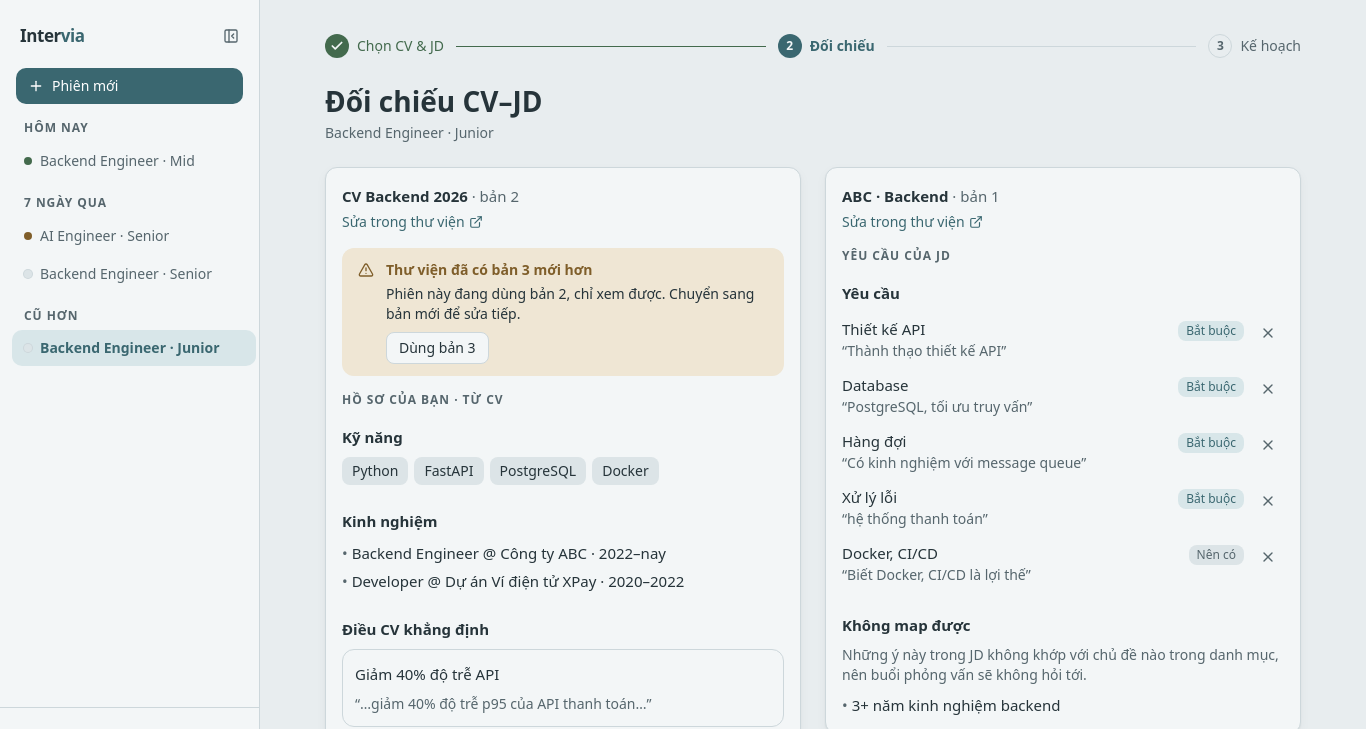
SessionMatchPage when analysed (UI-5.3) › session on an older version: view-only until switched to the newest
Click the button "Dùng bản 3" at [437, 348], box [386, 332, 488, 364]
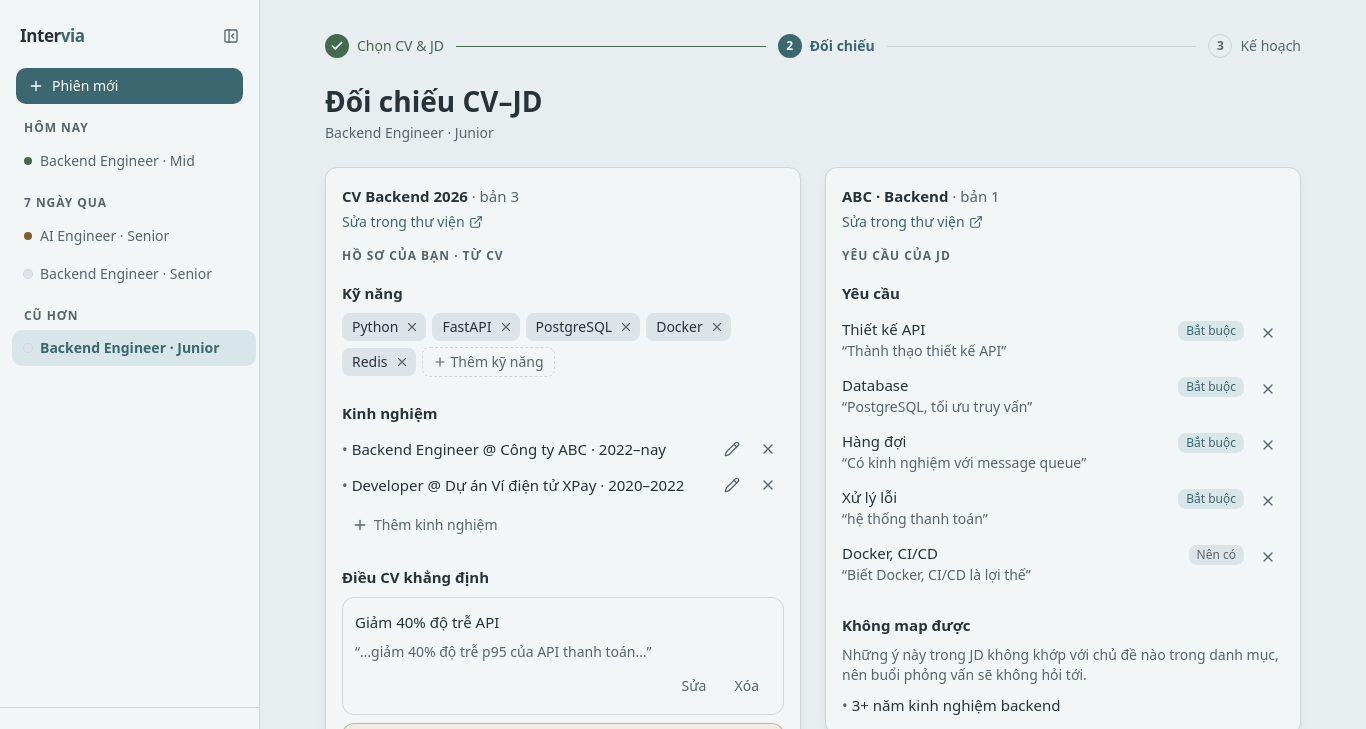
Now the text "Thư viện đã có bản 3 mới hơn" is gone
Now the button named "Xóa Python" is shown, box [402, 317, 422, 337]
